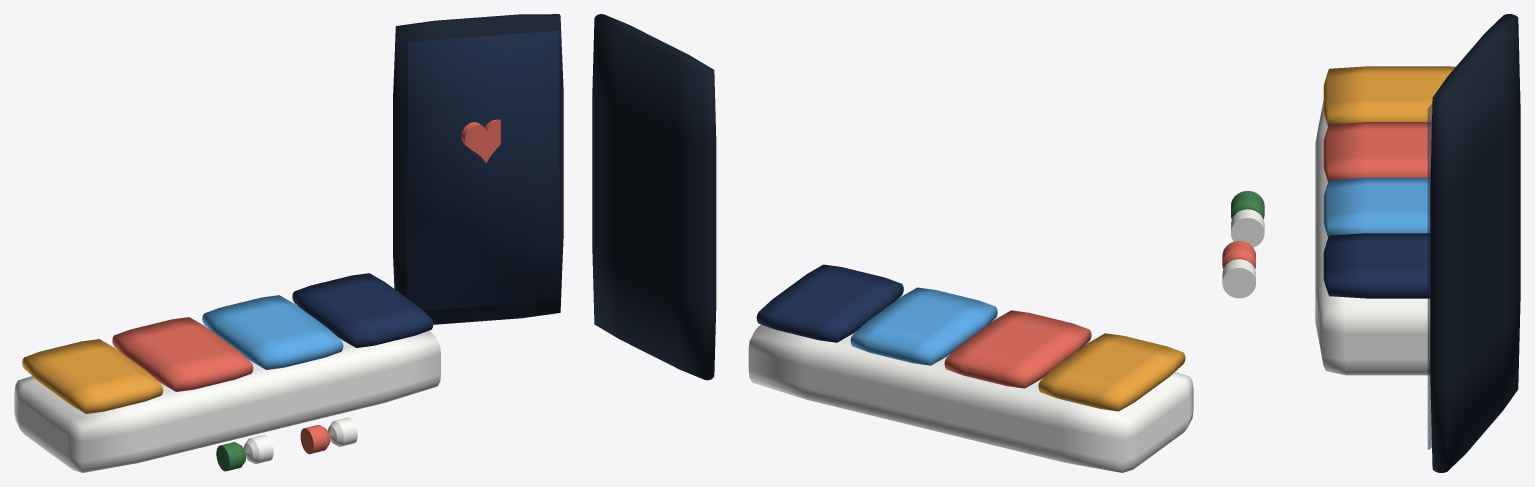
The model's file is hero.glb.
3 renders of one model, left to right at view 1: azimuth 30°, elevation 25°; view 2: azimuth 150°, elevation 25°; view 3: azimuth 270°, elevation 25°, orthographic. The views are drawn at different scales.
Parts seen in each view (by area): view 1: hero; view 2: hero; view 3: hero.
Part boxes in pixels (box(x1,y1,x2,y2)): hero: box(14, 14, 563, 472); hero: box(592, 14, 1193, 472); hero: box(1222, 14, 1520, 472).
Bounding box in the file's own units: 4.62 × 2.55 × 1.77.
